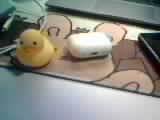duck: (6, 25, 67, 77)
